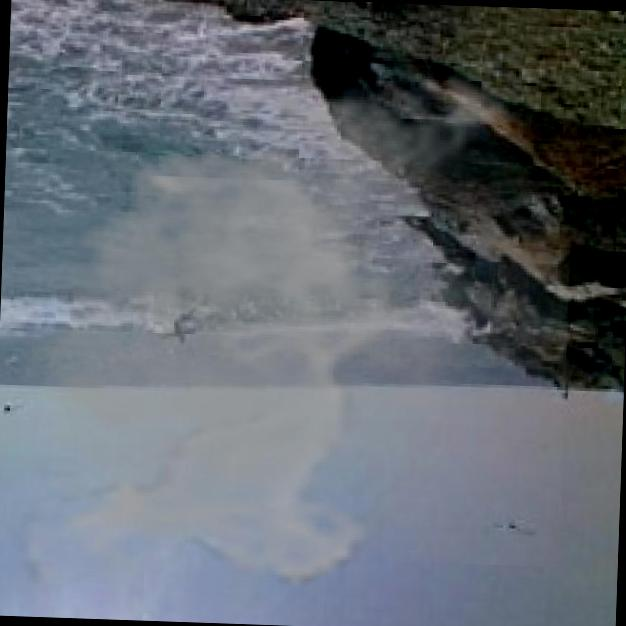smoke: (0, 41, 576, 601)
